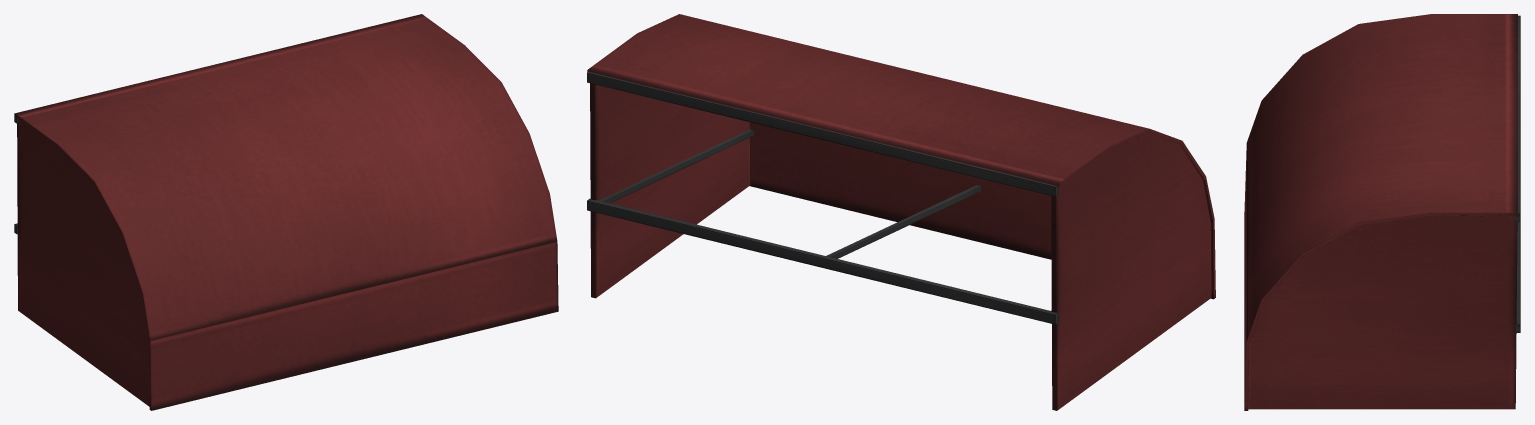
File: ds_canopy_1_A.FBX
3 views of the same model, side by side, from view 1: azimuth 30°, elevation 25°; view 2: azimuth 150°, elevation 25°; view 3: azimuth 270°, elevation 25° (orthographic). The views are drawn at different scales.
Parts seen in each view (by area): view 1: ds_canopy_1_A; view 2: ds_canopy_1_A; view 3: ds_canopy_1_A.
Part boxes in pixels (<box>): ds_canopy_1_A: <box>14,14,558,410</box>; ds_canopy_1_A: <box>587,14,1215,410</box>; ds_canopy_1_A: <box>1244,14,1520,410</box>.
Bounding box in the file's own units: 10.08 × 5.91 × 4.68.
